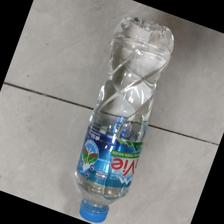Lavie: (73, 15, 174, 224)
